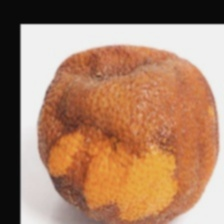orange: (37, 0, 221, 183)
